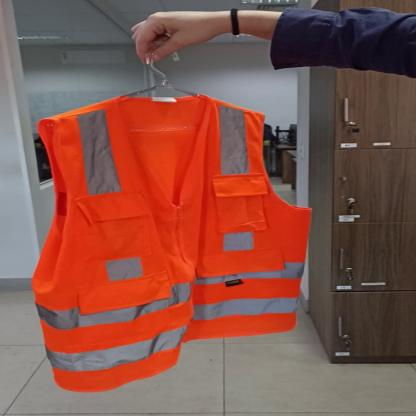colete: (26, 92, 320, 392)
